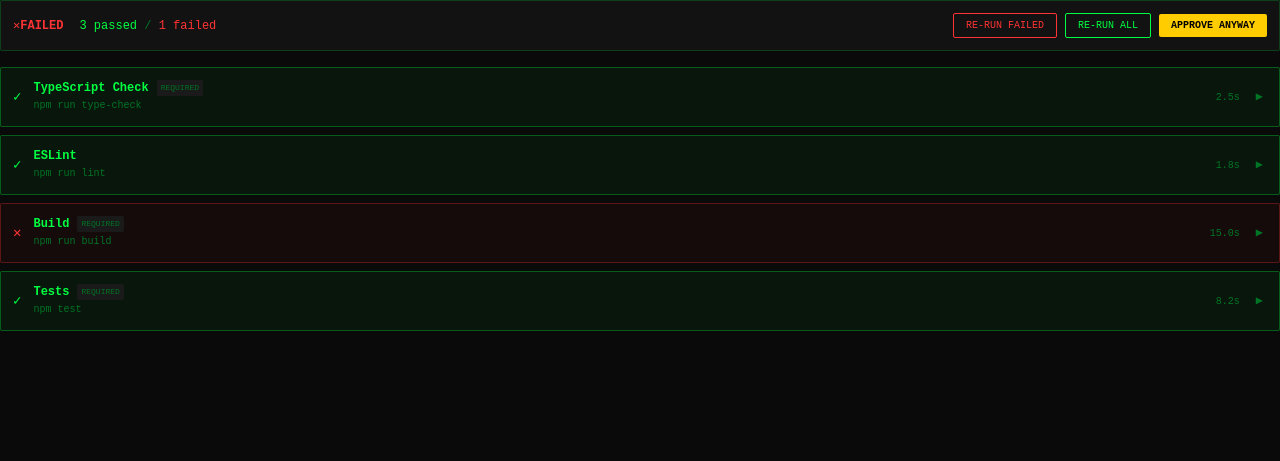
VerificationPanel › Expandable Output › shows error output for failed checks
This screenshot has width=1280, height=461.
Note: Find and expand the failed check (Build)
Click the button with test id "expand-output-button" next to "15.0s" at (1259, 233), box top-left (1252, 221), bottom-right (1267, 245)
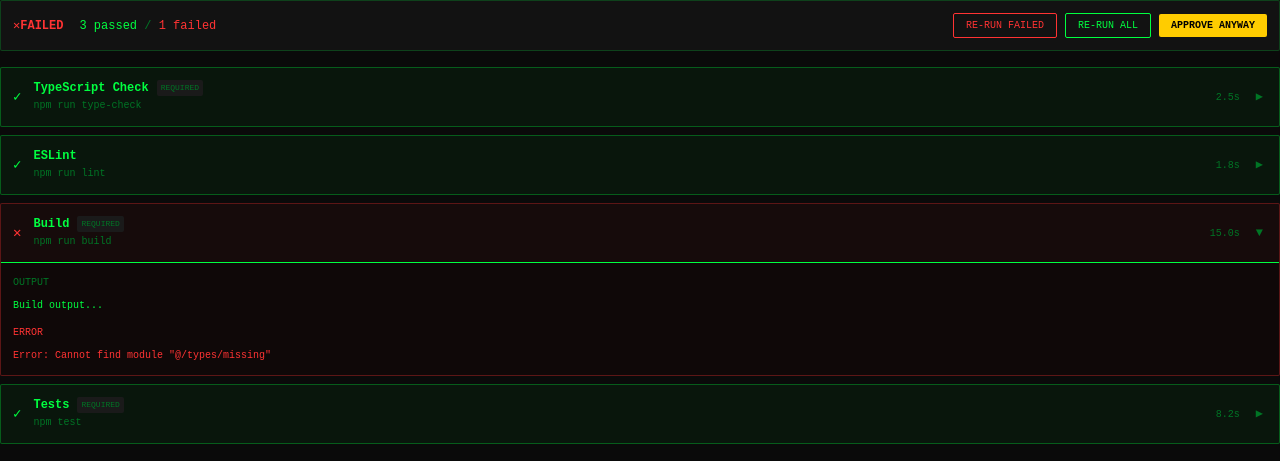
Expected: the text "Error: Cannot find module \"@/types/missing\"" is shown, top-left (13, 350), bottom-right (271, 361)
